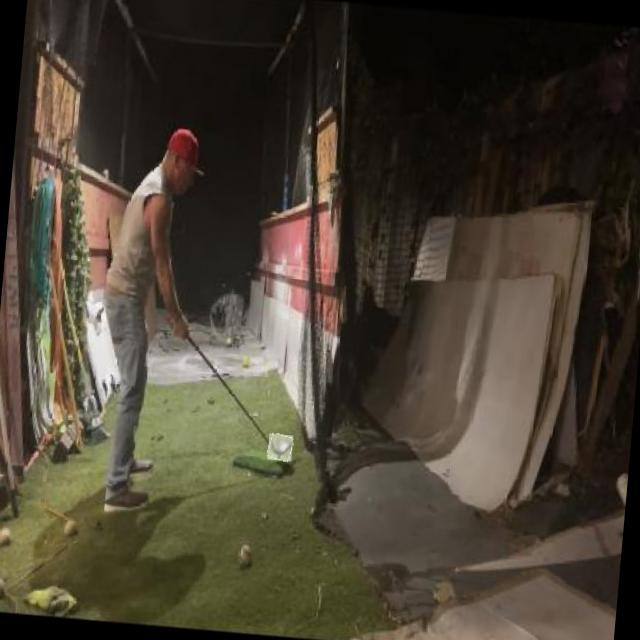club head: (267, 433, 293, 461)
